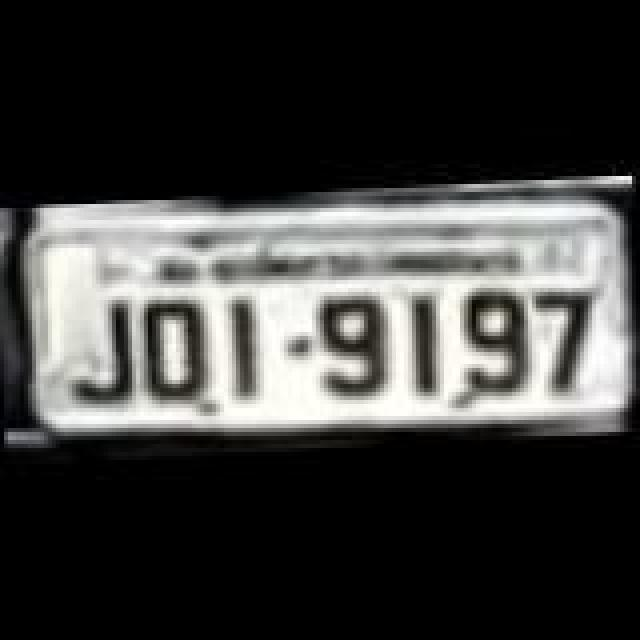1: (222, 292, 274, 412), (402, 288, 446, 400)
7: (532, 288, 604, 400)
9: (312, 288, 392, 400), (464, 288, 536, 400)
J: (64, 292, 136, 412)
O: (140, 296, 212, 408)
